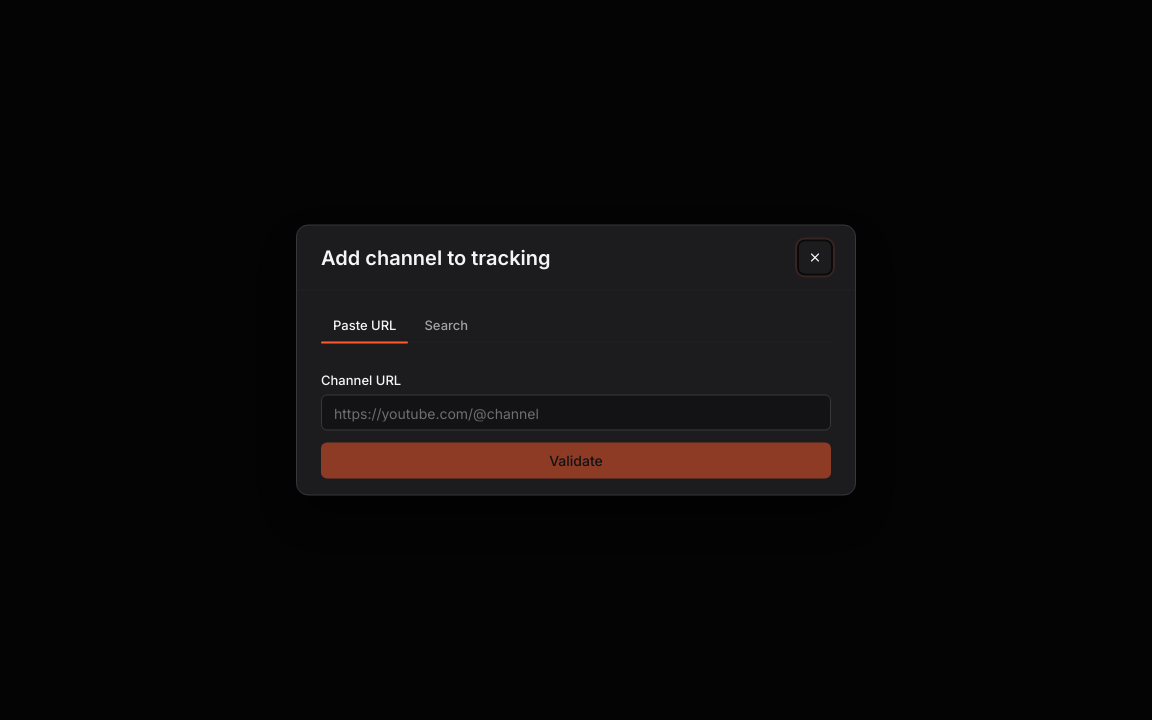
Scenario: AddChannelModal › validating -> previewing: shows the channel preview on a successful validation
Type "https://youtube.com/@sleepsounds" into the field labelled "Channel URL" at point(576, 412), box [321,394,831,430]
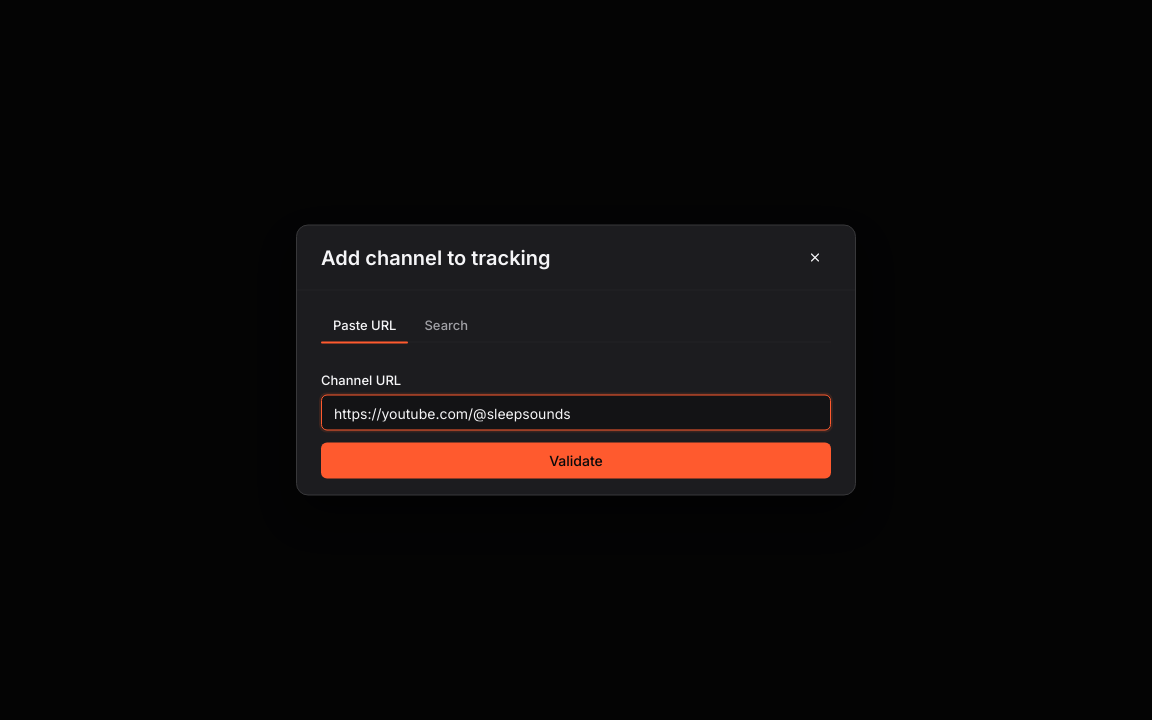
Click the button "Validate" at point(576, 460), box [321,442,831,478]
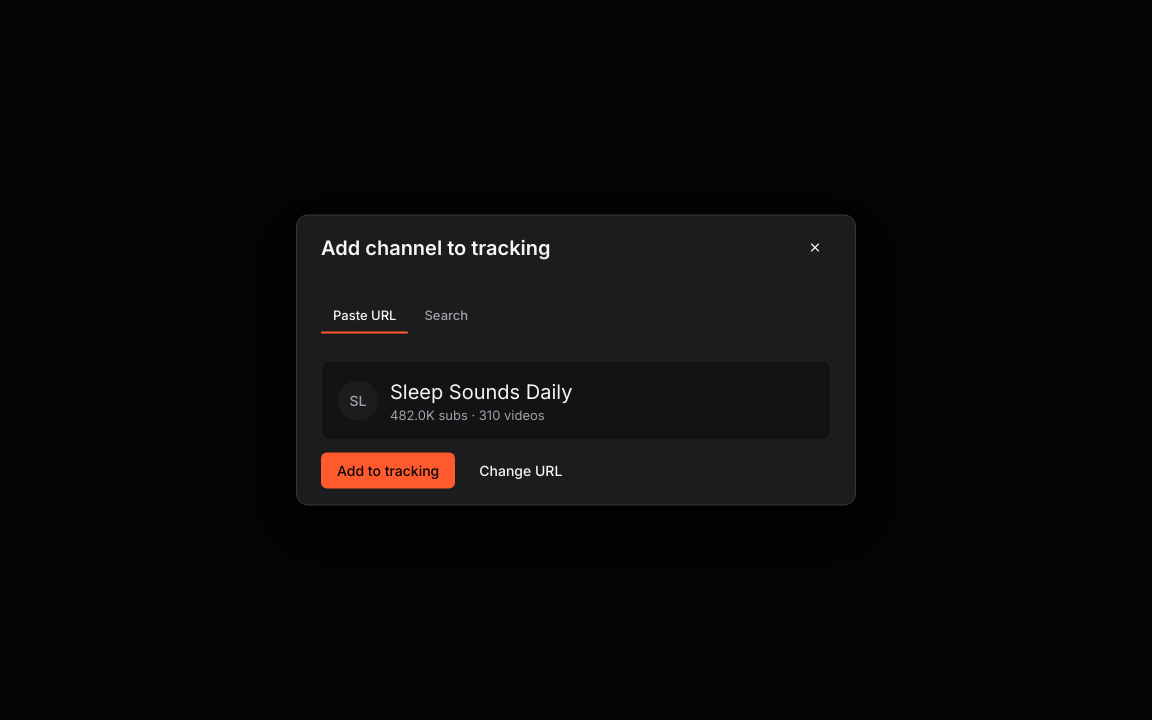
Now the text "Sleep Sounds Daily" is shown, box [390,380,572,404]
Now the button "Add to tracking" is shown, box [321,452,455,488]
